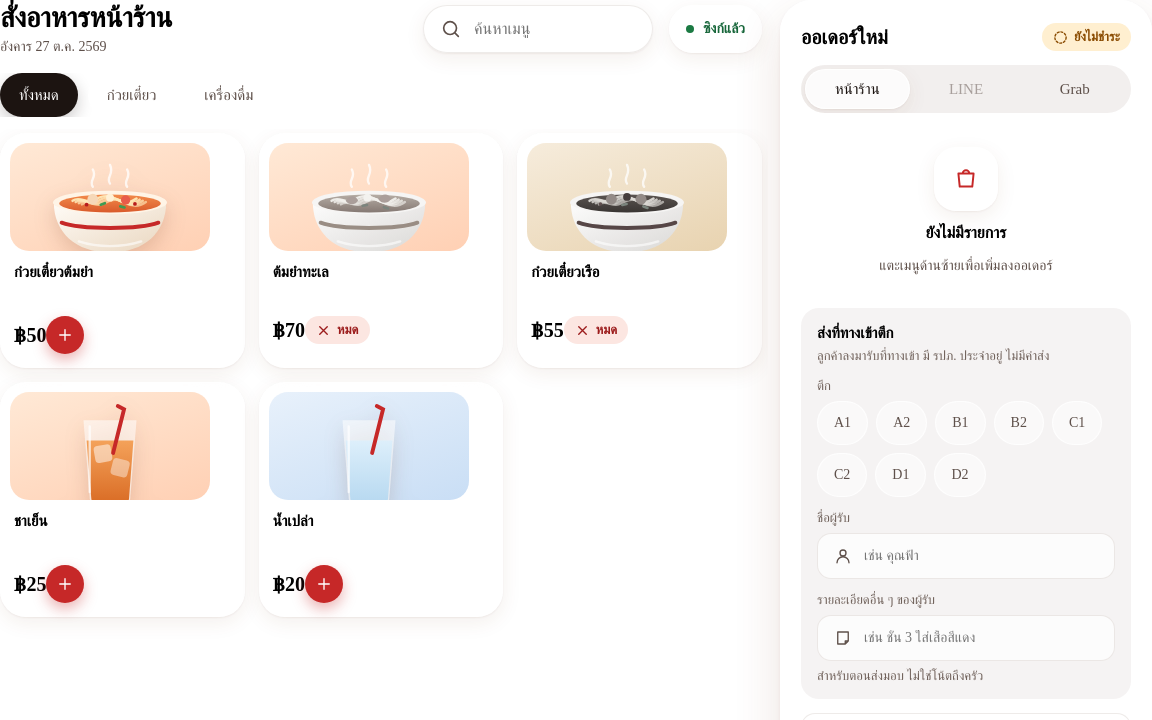
Test: adding a dish › a sold-out option cannot be chosen
Click the button "ก๋วยเตี๋ยวต้มยำ ฿50". click: (122, 251)
box: x1=0 y1=133 x2=245 y2=368
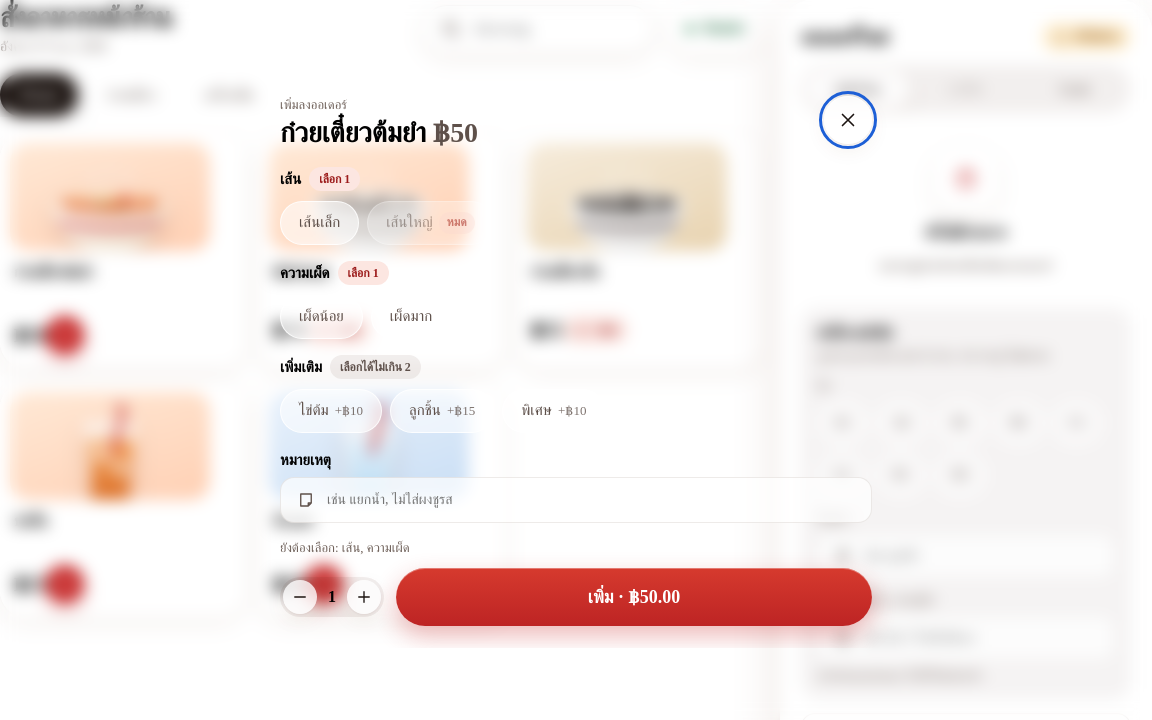
Check: the radio button labelled "เส้นใหญ่ หมด" is disabled, box x1=367 y1=201 x2=494 y2=245
Check: the radio button labelled "เส้นใหญ่ หมด" is shown, box x1=367 y1=201 x2=494 y2=245
